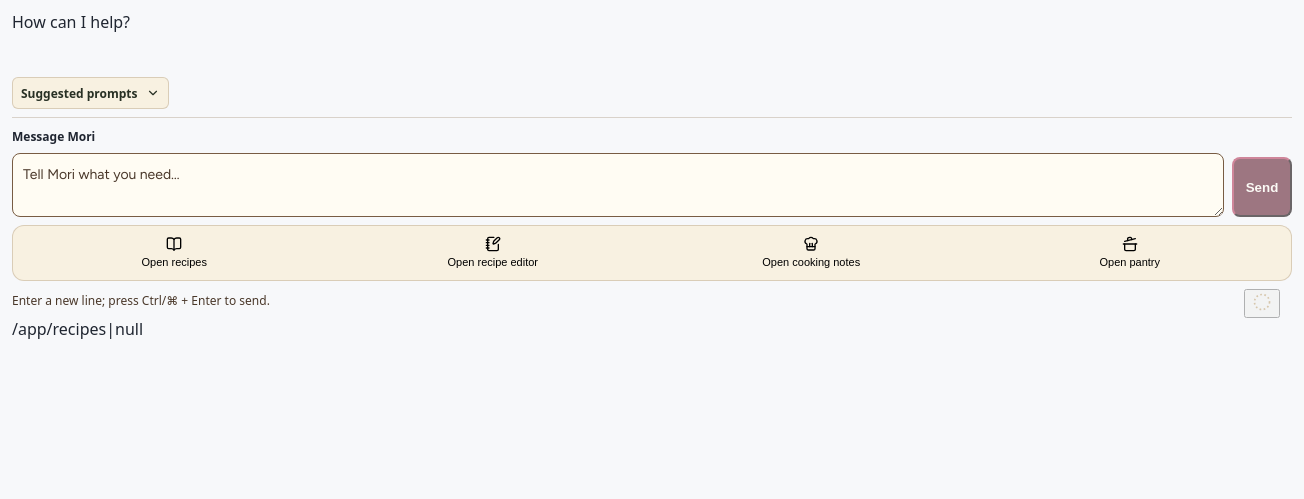
Test case: navigates only to the requested recipe field and keeps Mori available
In the text box labelled "Message Mori": point(618, 185) [12,153,1224,217], type "Show me the pantry field"
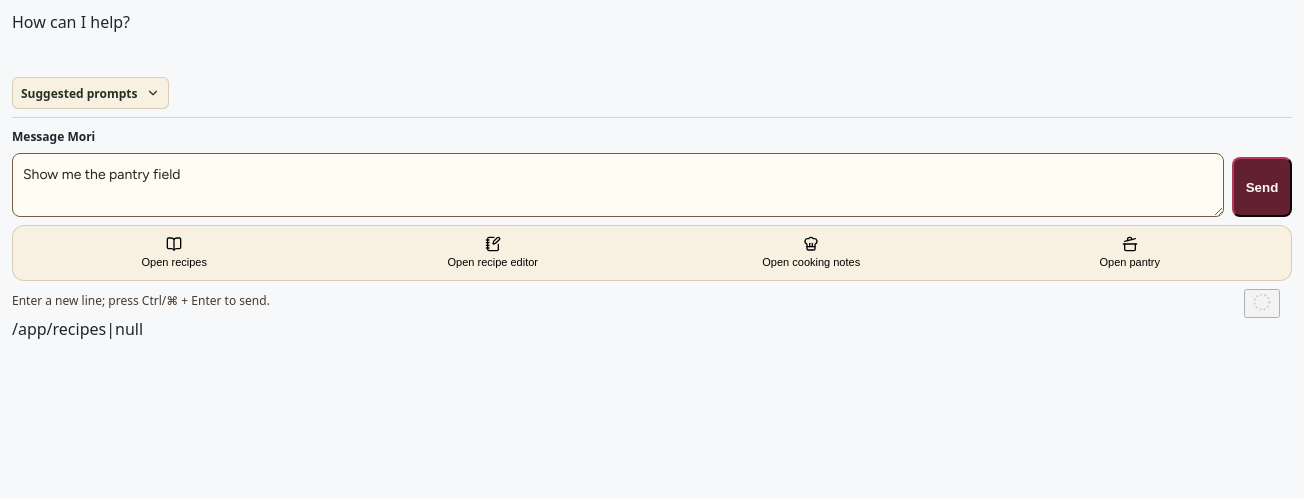
Click the button "Send": point(1262, 187) [1232,157,1292,217]
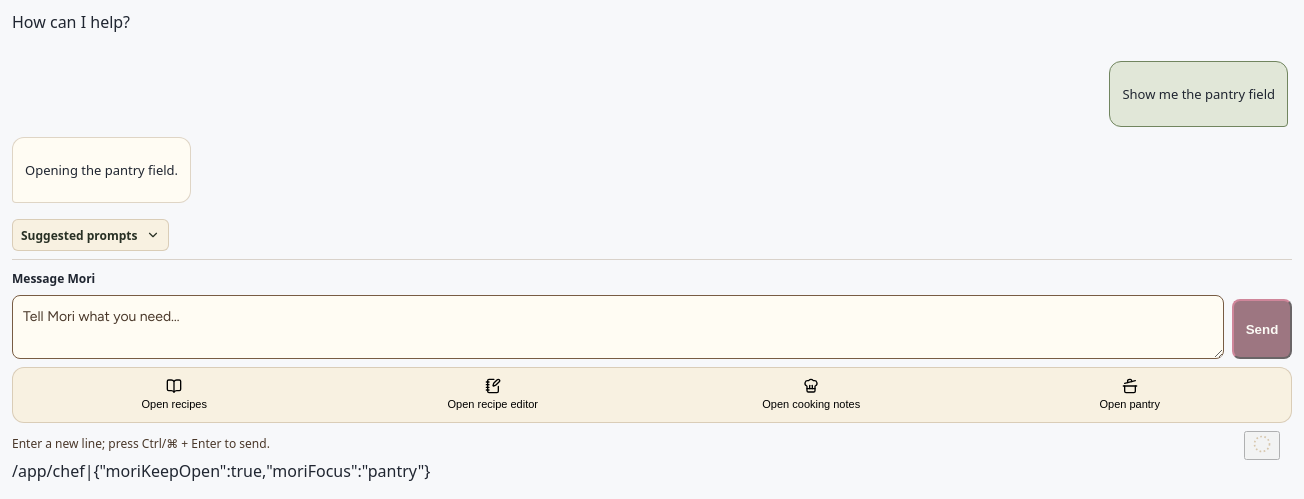
Result: the text with test id "location" shows "/app/chef" at [12,460,85,482]
Result: the text with test id "location" shows "\"moriFocus\":\"pantry\"" at [94,460,430,482]
Result: the text with test id "location" shows "\"moriKeepOpen\":true" at [94,460,430,482]
